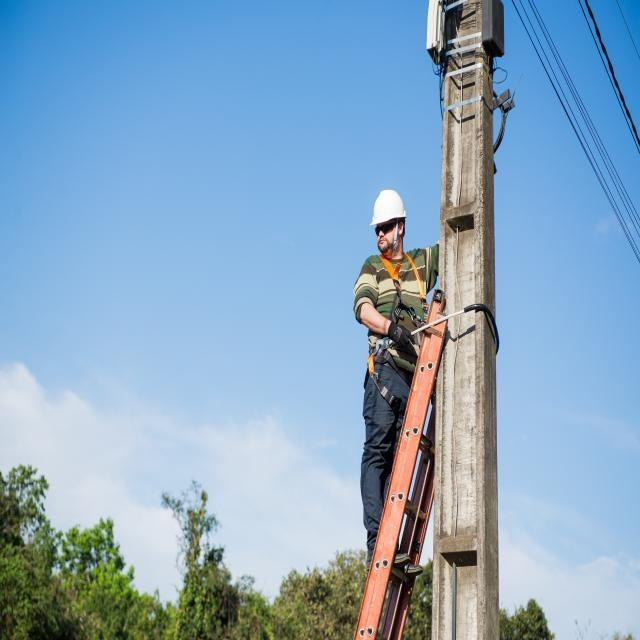Arnes_seguridad: (363, 250, 429, 420)
